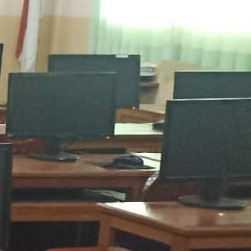monitor: (6, 71, 117, 140), (158, 98, 250, 181), (47, 54, 141, 109), (173, 70, 251, 99)
